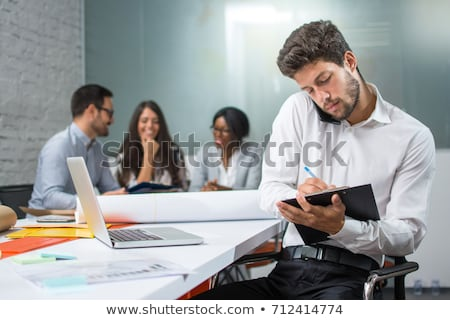phone: (304, 89, 342, 126)
